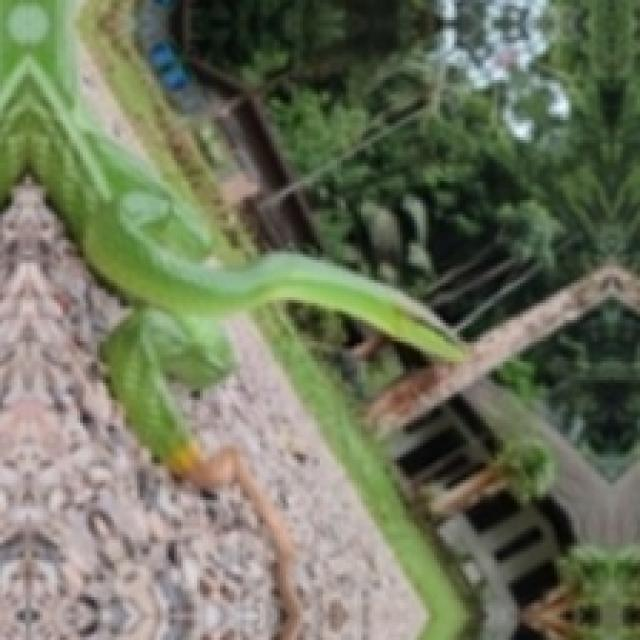red-tailed green ratsnake: (0, 0, 457, 477)
